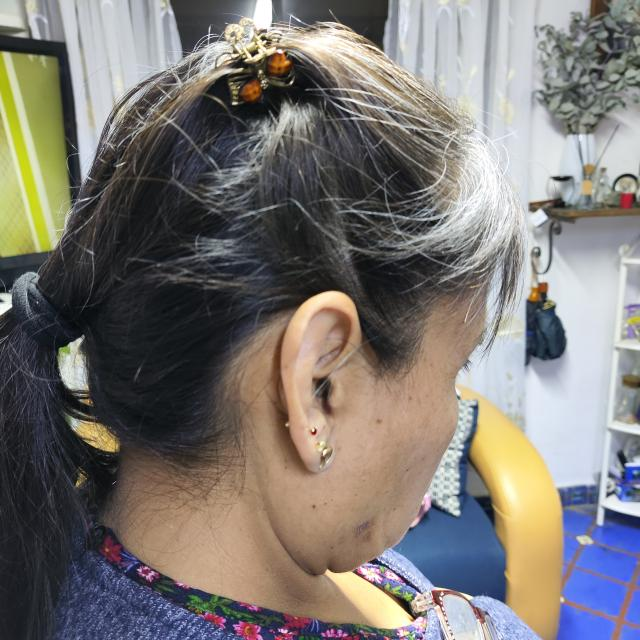ear: (279, 291, 366, 472)
